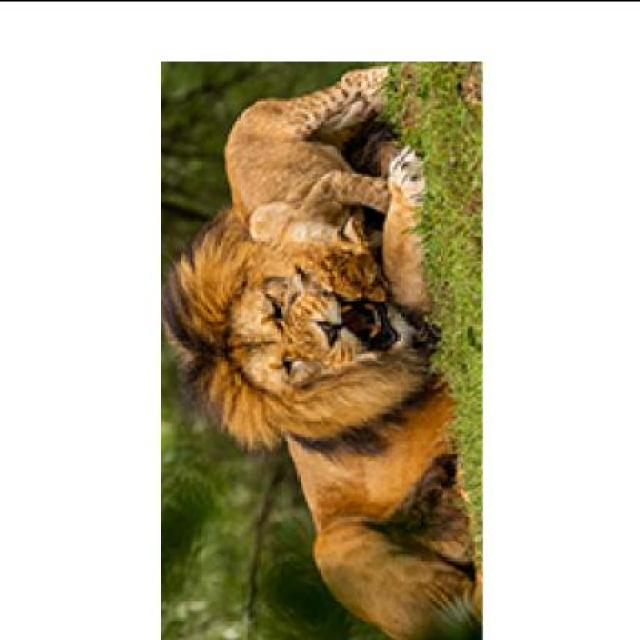Lion: (163, 43, 535, 639)
